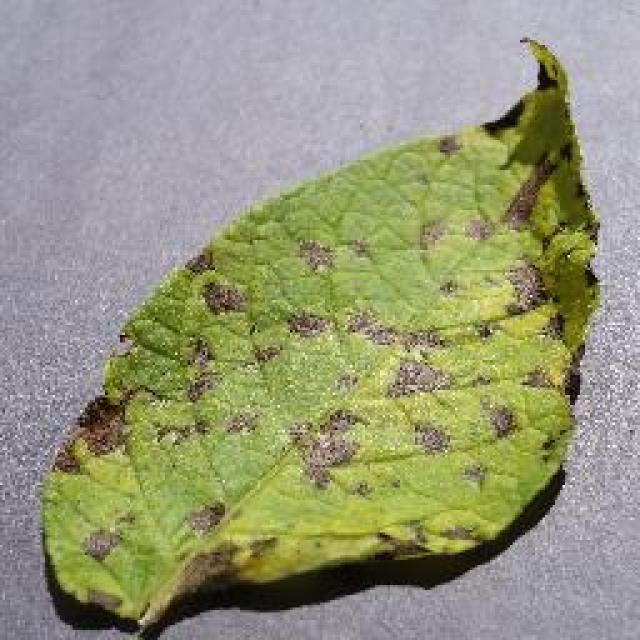early_blight: (32, 32, 608, 638)
